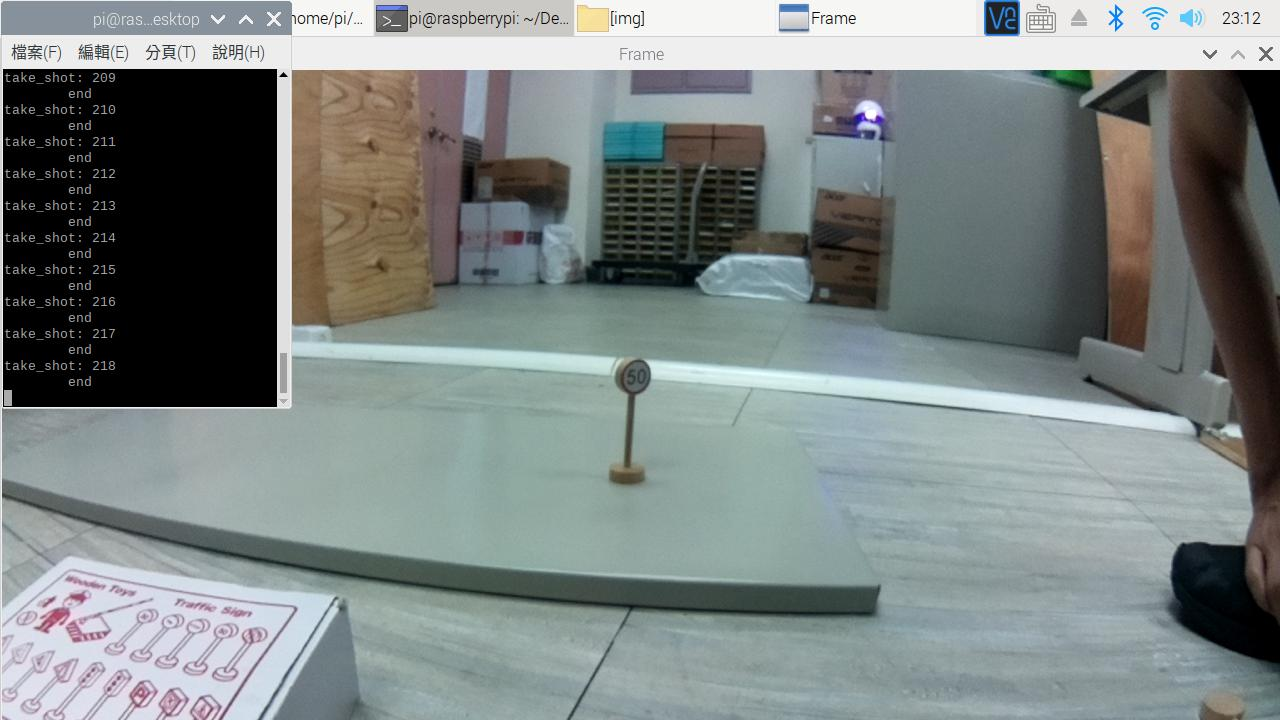Speed50: (595, 352, 668, 409)
